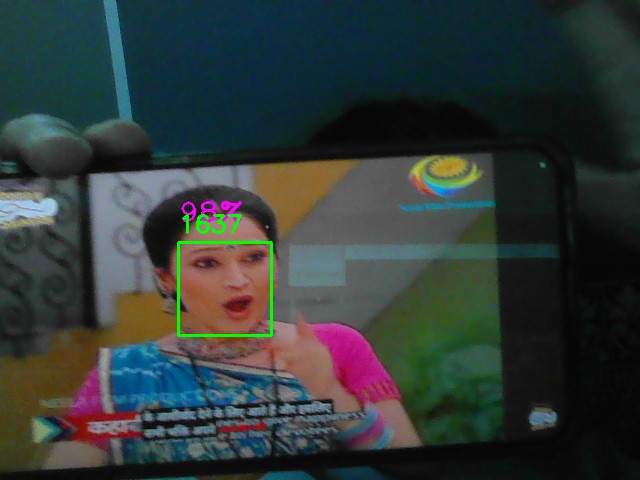fake: (178, 242, 272, 336)
